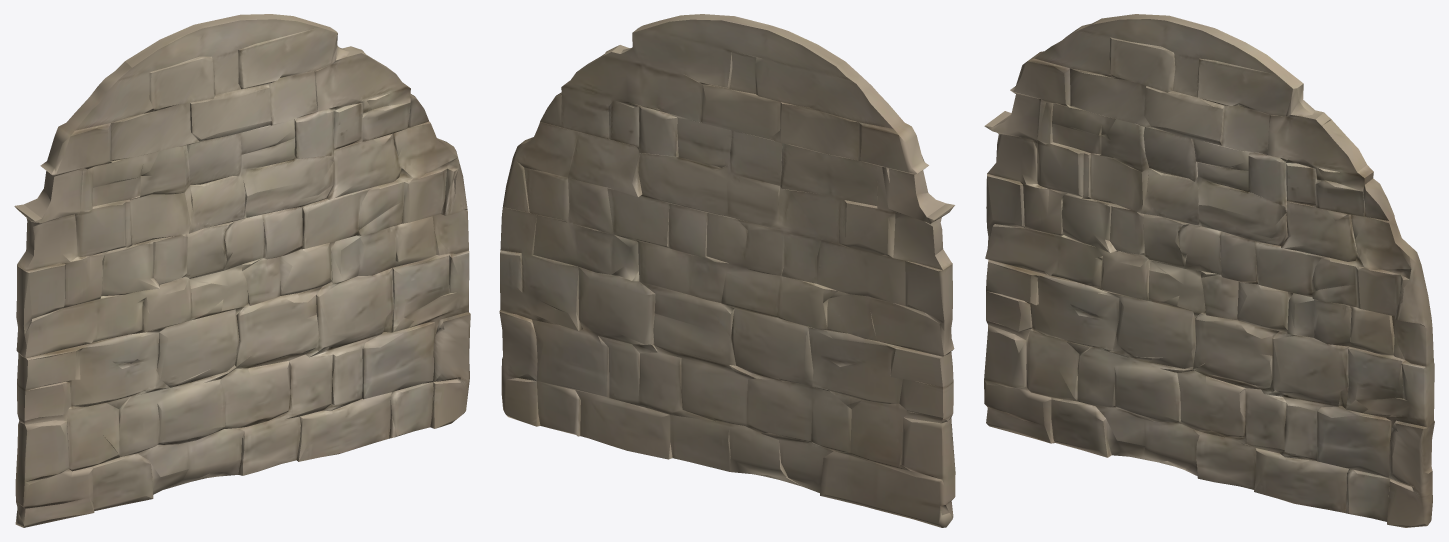
File: m2ArchWallV2.glb
The picture shows the model from 3 angles, left to right: view 1: azimuth 30°, elevation 25°; view 2: azimuth 150°, elevation 25°; view 3: azimuth 330°, elevation 25°; orthographic projection.
Parts seen in each view (by area): view 1: model; view 2: model; view 3: model.
Boxes of the visible parts, x1,y1,x2,y2 form: model: (14, 14, 470, 527); model: (499, 14, 955, 527); model: (984, 14, 1434, 527).
Size of the model in its own units: 1.91 by 1.85 by 0.1578.
Materials: 1 (1 with a texture image).
